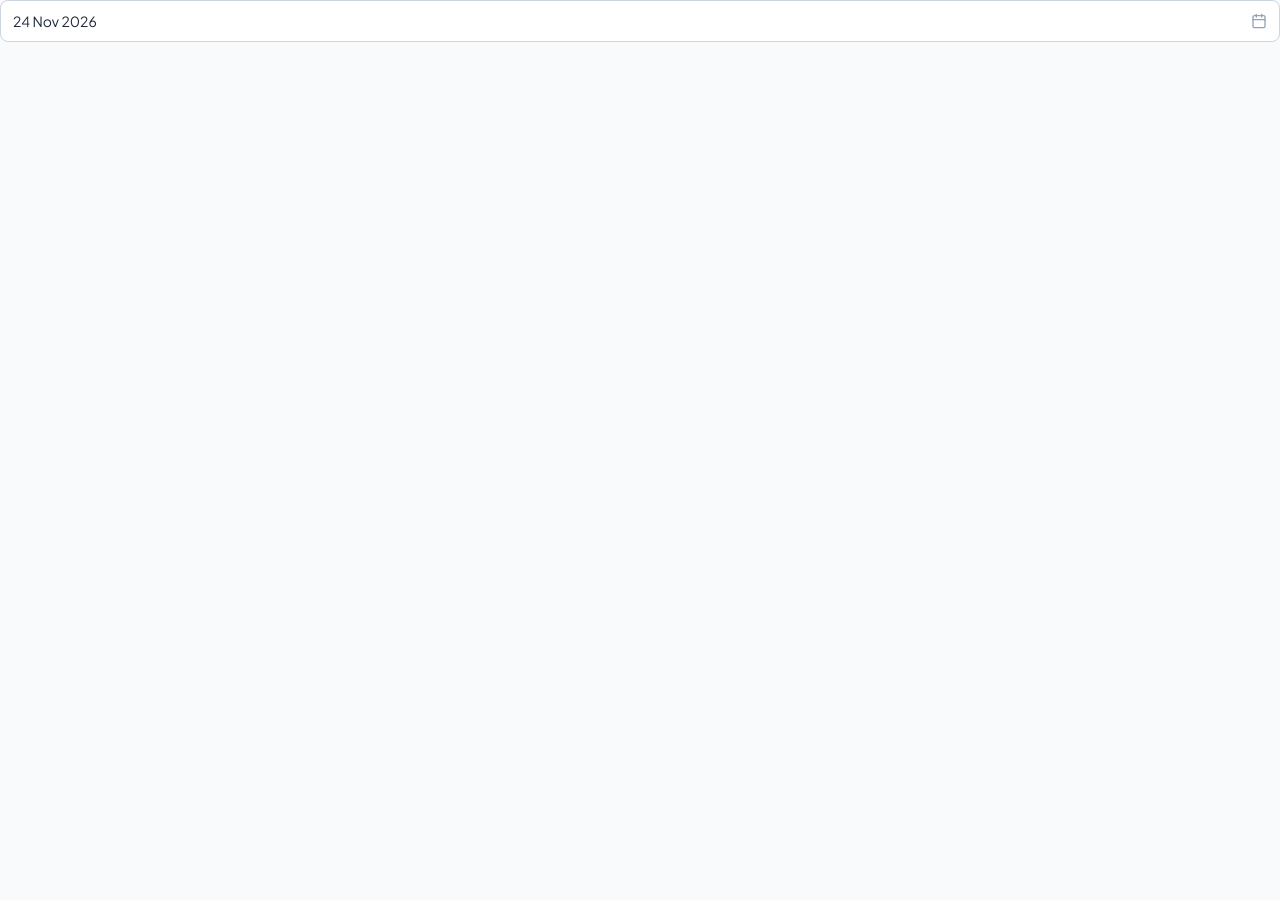
DatePicker › memilih tanggal dari kalender berbahasa Indonesia
Later steps or results of the test are not shown.
What coordinates should you click on to do the following:
click the button "24 Nov 2026"
I would click on:
 (55, 21)
Its box is [0,0,1279,42].
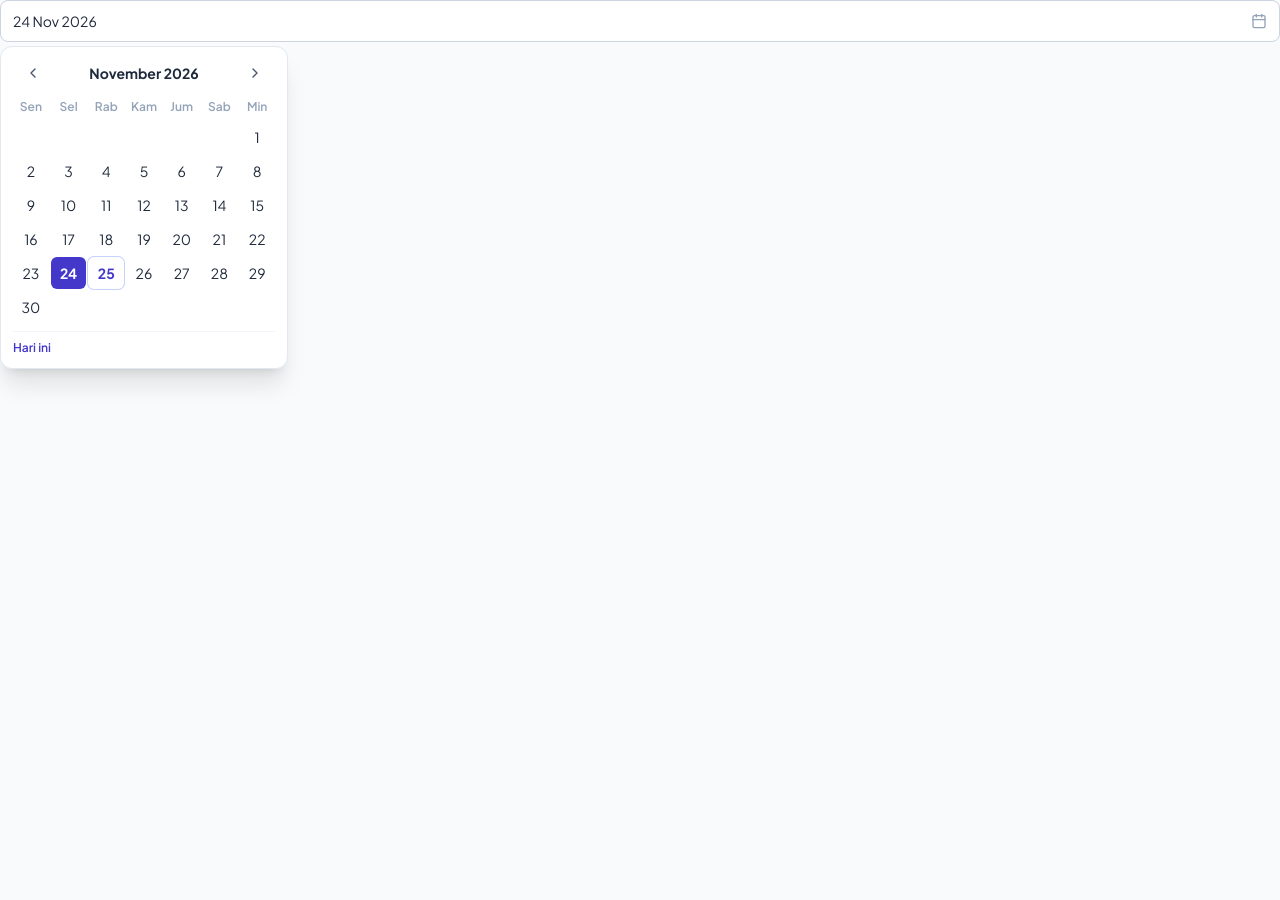
Expected: the text "November 2026" is shown, [89,63,199,83]
